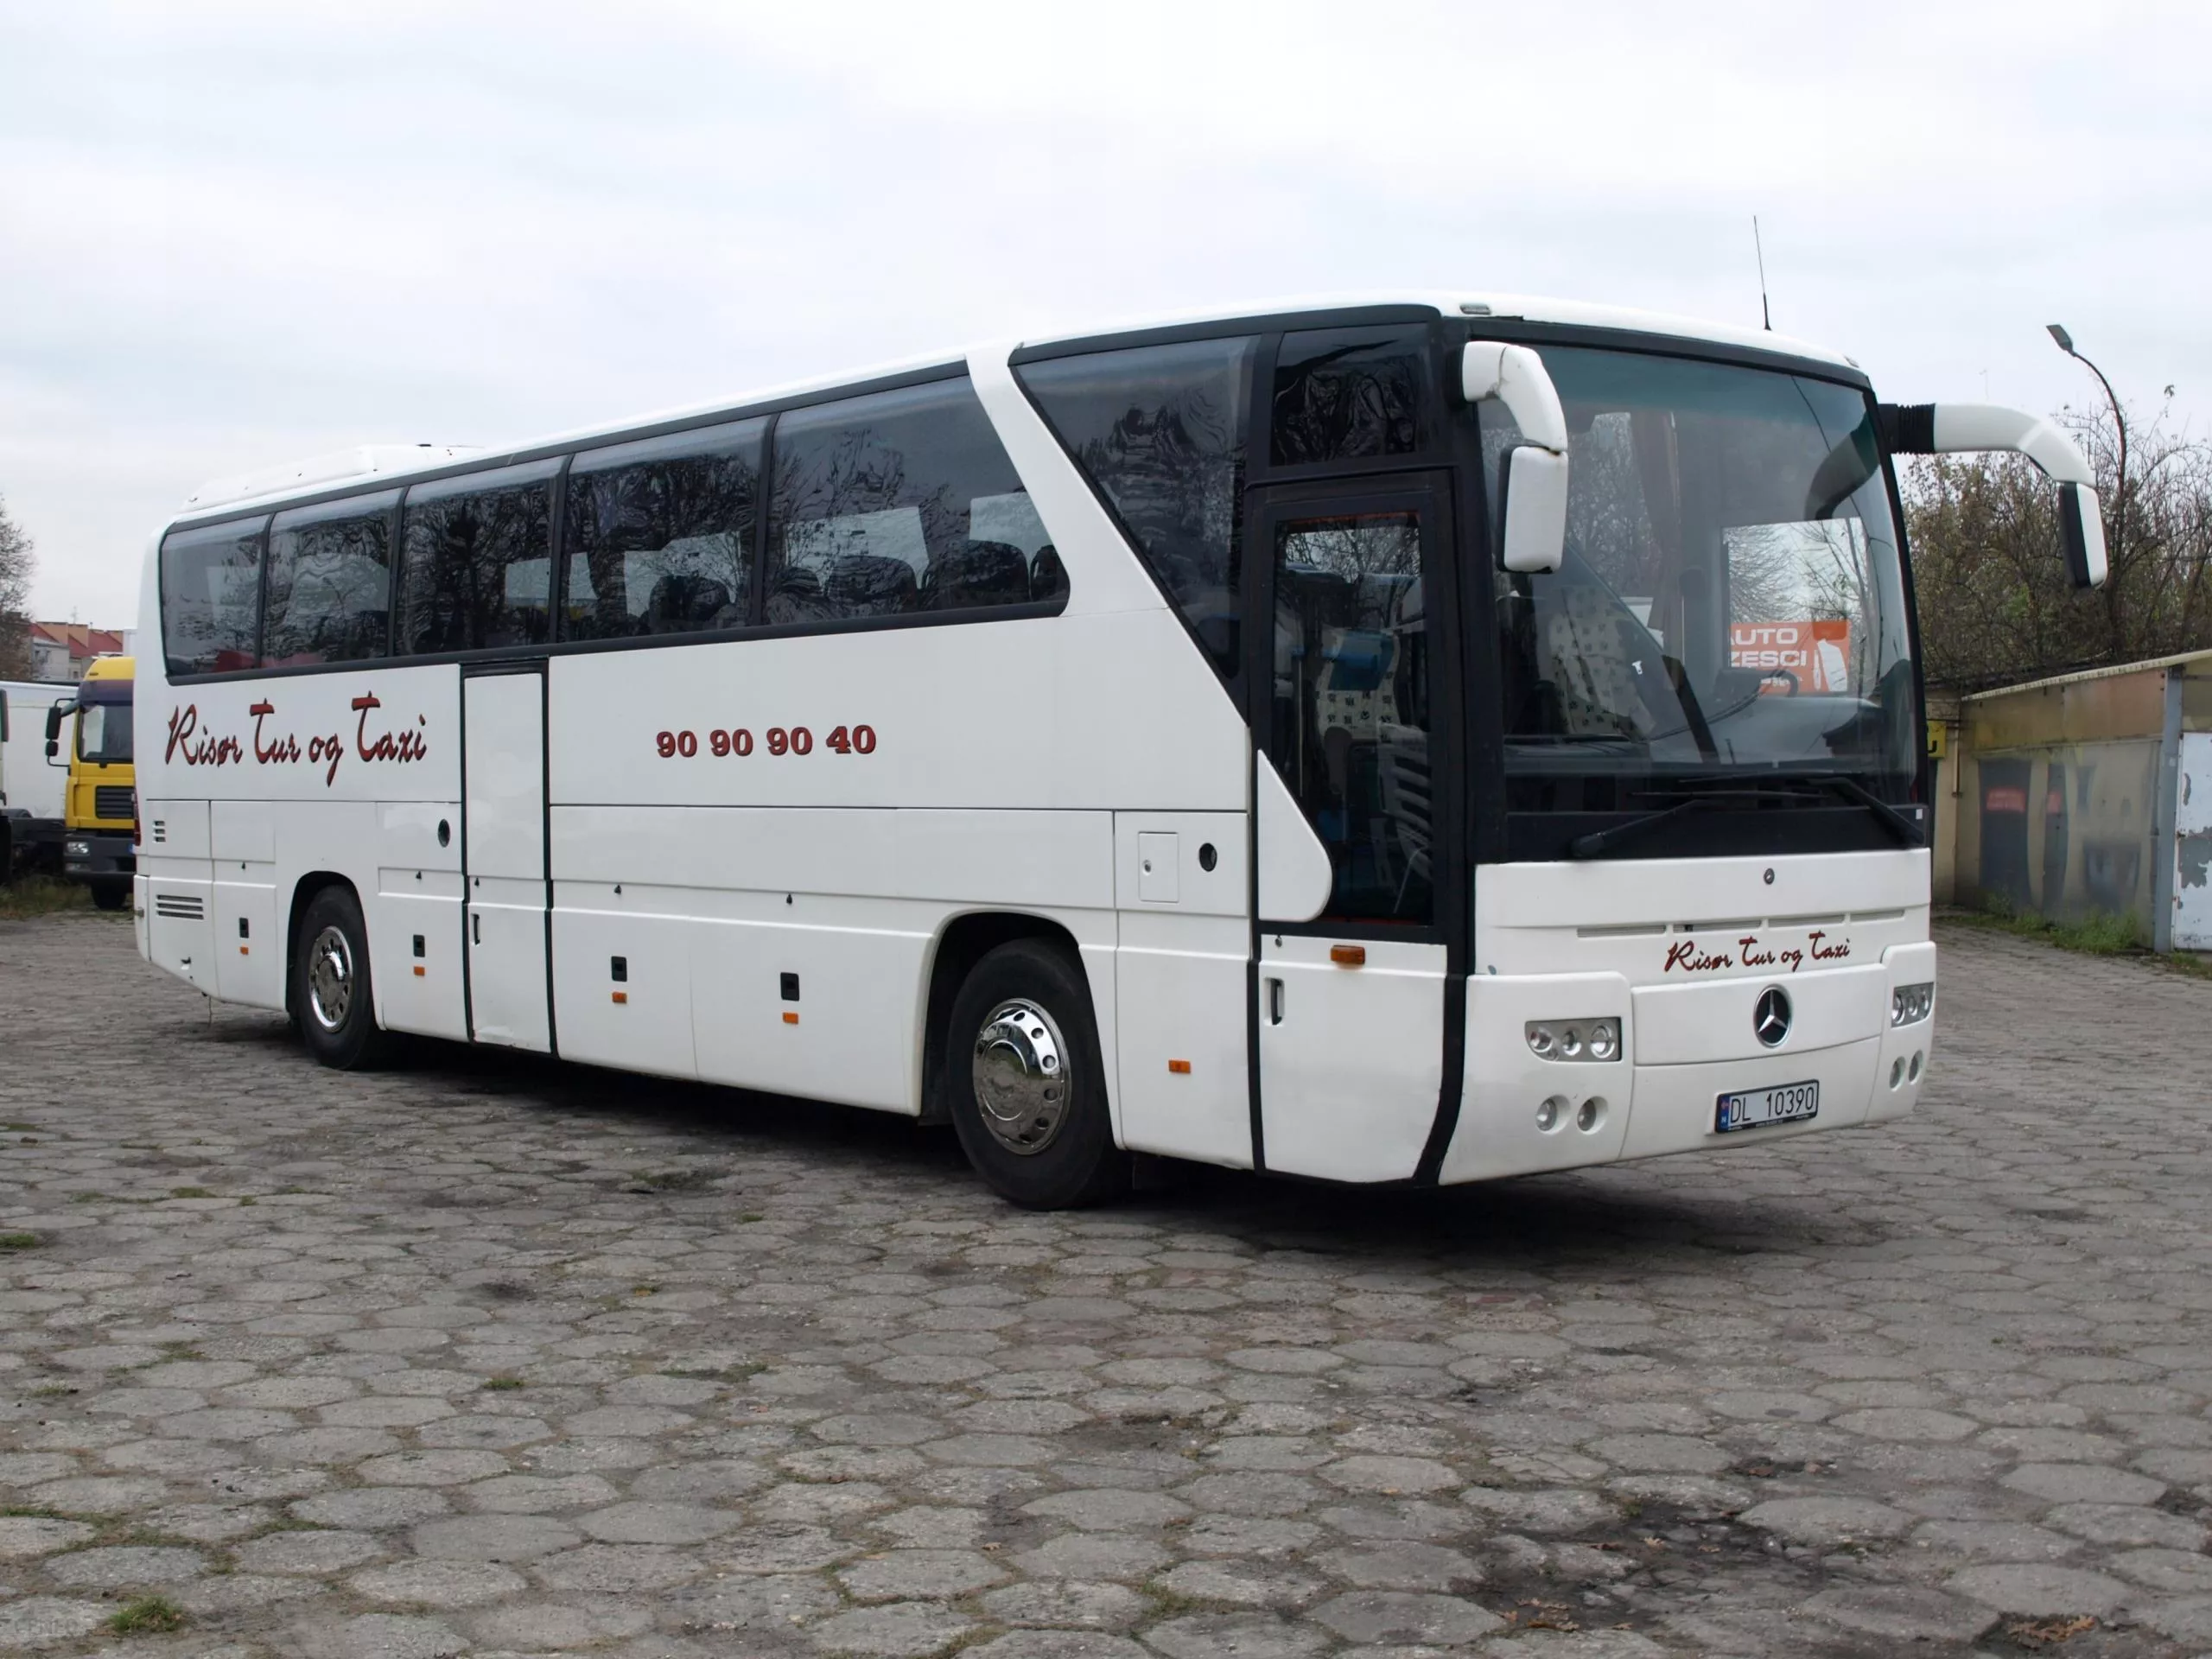tablica: (1721, 1086, 1813, 1126)
